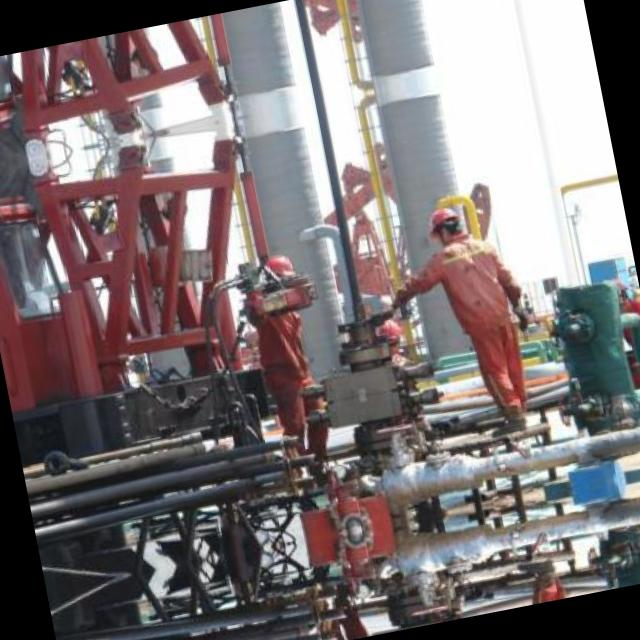helmet: (426, 195, 469, 245), (258, 250, 301, 300)
